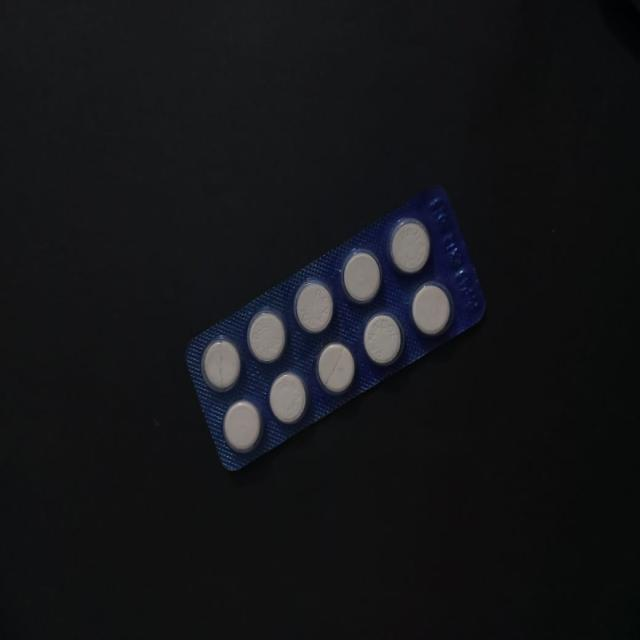defect: (198, 334, 244, 393), (315, 341, 356, 396)
